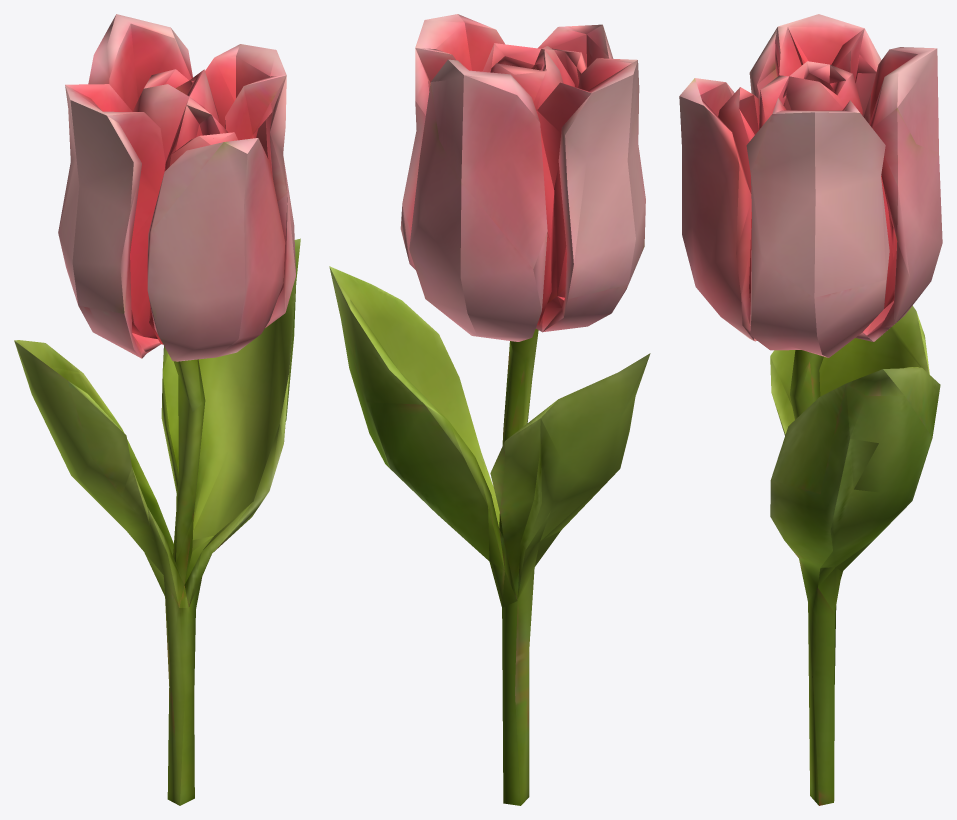
Rendered from flowerB.glb.
3 renders of one model, left to right at view 1: azimuth 30°, elevation 25°; view 2: azimuth 150°, elevation 25°; view 3: azimuth 270°, elevation 25°, orthographic. The views are drawn at different scales.
Parts seen in each view (by area): view 1: model; view 2: model; view 3: model.
Boxes of the visible parts, left/top/right/bottom form: model: left=14, top=14, right=300, bottom=805; model: left=329, top=14, right=650, bottom=805; model: left=679, top=14, right=942, bottom=805.
Bounding box in the file's own units: 0.7929 × 1.89 × 0.6031.
Materials: 1 (1 with a texture image).
